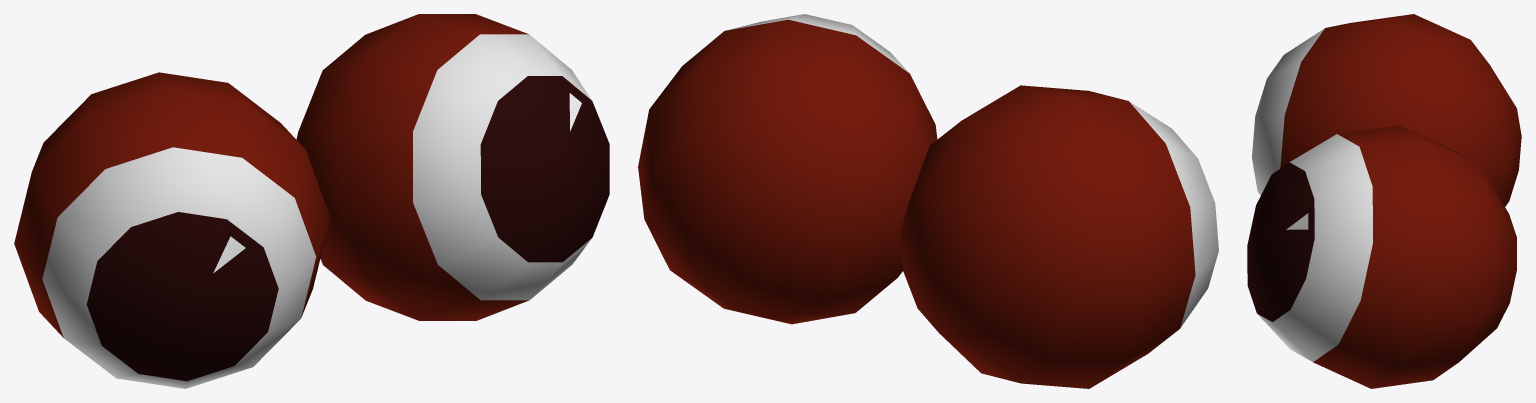
The model's file is Eyes_Nerdor.glb.
The picture shows the model from 3 angles, left to right: view 1: azimuth 30°, elevation 25°; view 2: azimuth 150°, elevation 25°; view 3: azimuth 270°, elevation 25°; orthographic projection. The views are drawn at different scales.
Parts seen in each view (by area): view 1: Eyes_Nerdor; view 2: Eyes_Nerdor; view 3: Eyes_Nerdor.
Part boxes in pixels (x1=…): Eyes_Nerdor: x1=14, y1=14, x2=609, y2=388; Eyes_Nerdor: x1=638, y1=14, x2=1218, y2=388; Eyes_Nerdor: x1=1247, y1=14, x2=1521, y2=388.
Size of the model in its own units: 0.3876 by 0.1955 by 0.2019.
1 material, 1 textured.
